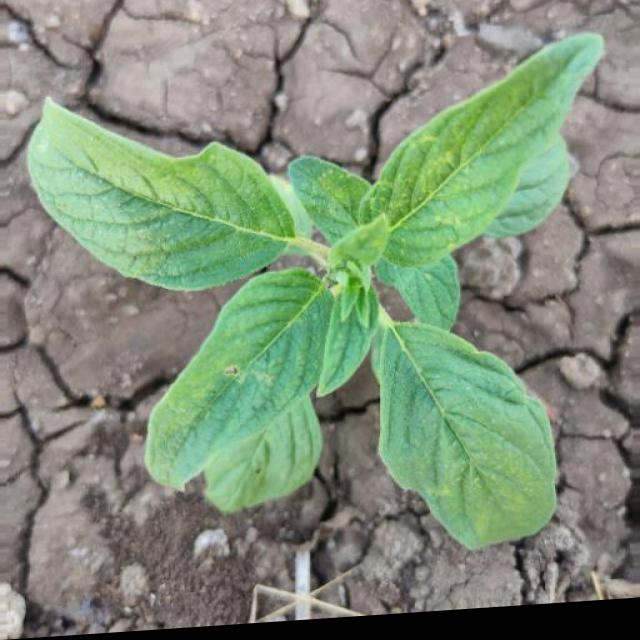crop: (28, 37, 612, 575)
